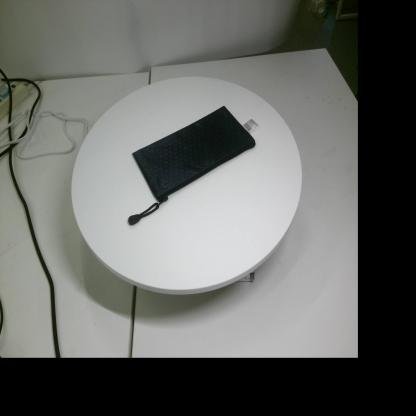Stationery: (128, 106, 259, 225)
